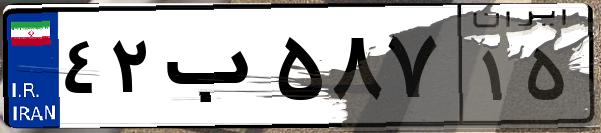1: (475, 38, 525, 113)
2: (110, 28, 158, 98)
4: (57, 26, 110, 100)
5: (270, 28, 330, 110), (525, 38, 570, 115)
7: (385, 28, 445, 110)
8: (330, 28, 385, 110)
ب: (158, 20, 270, 120)
